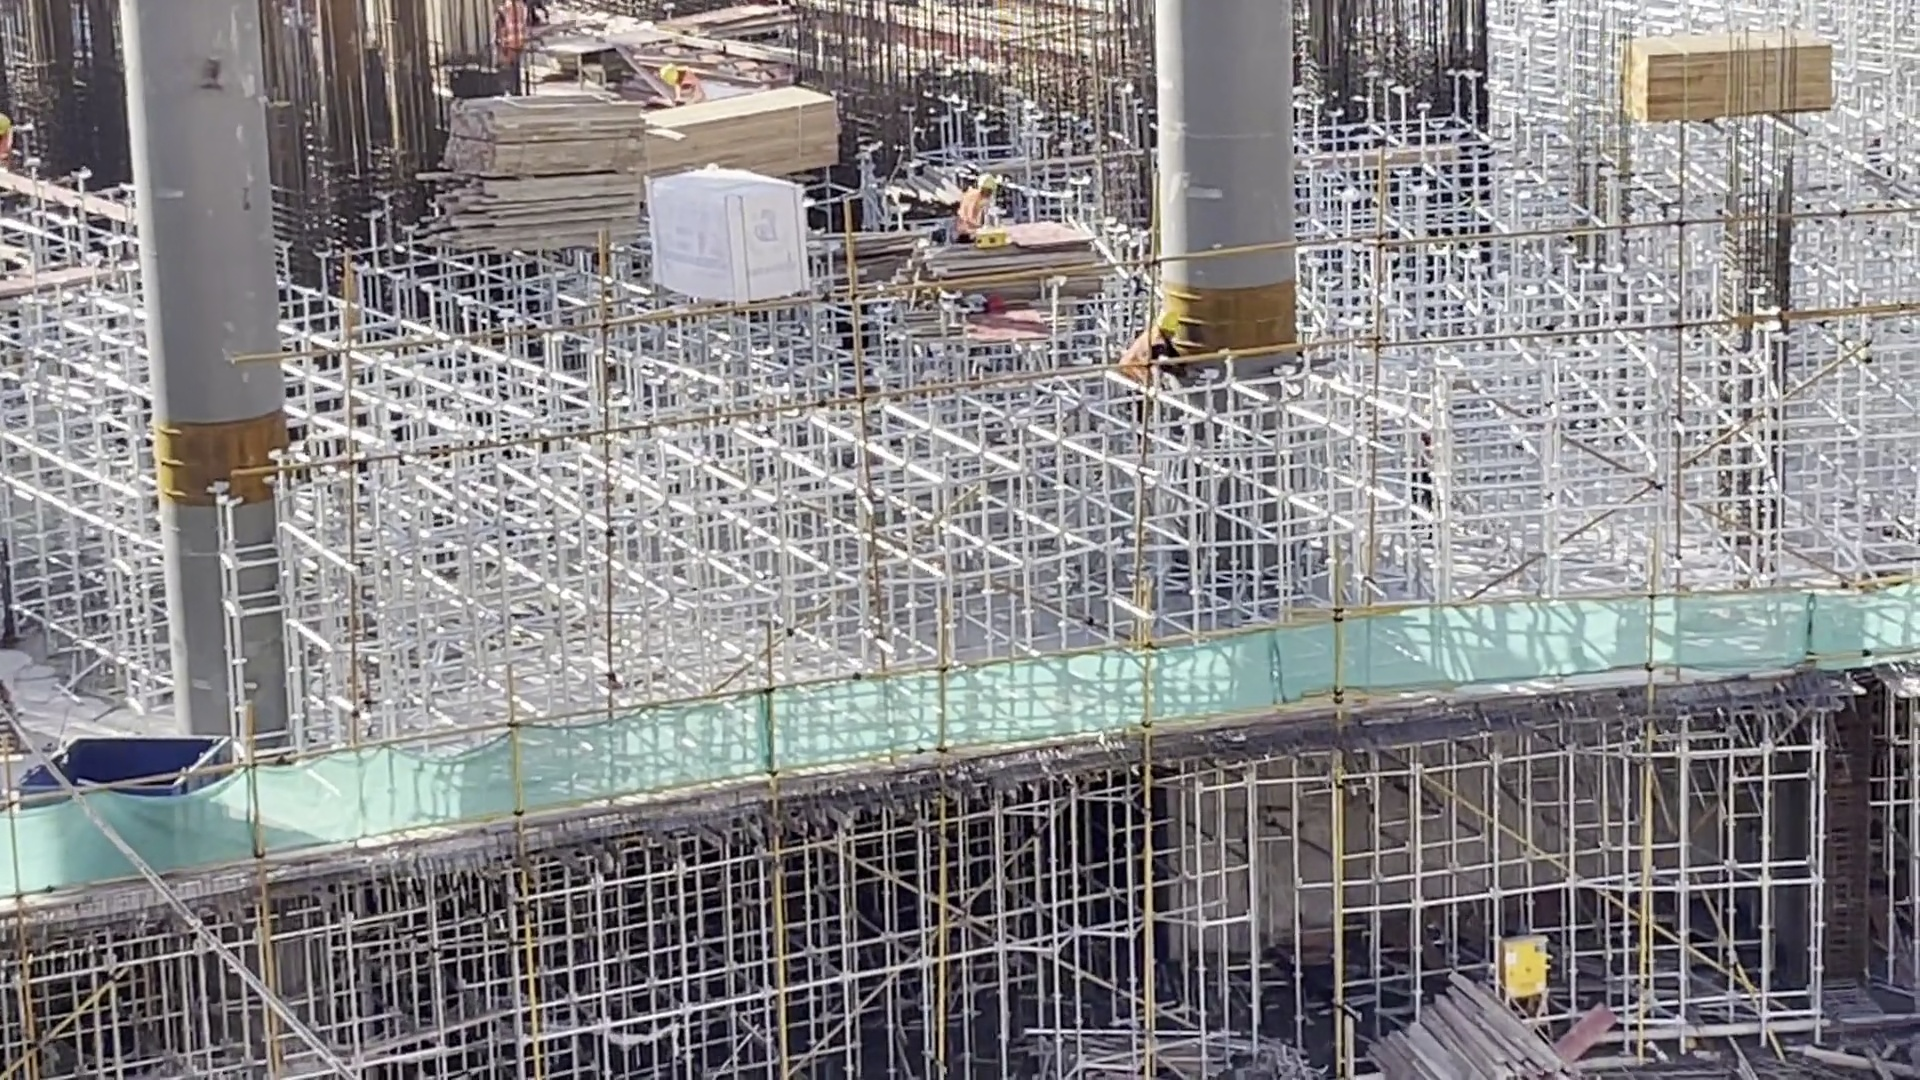board: (908, 211, 1110, 311)
ebox: (1500, 927, 1551, 1009)
helmet: (1157, 311, 1184, 331), (659, 63, 679, 87), (976, 173, 998, 191)
hopper: (21, 731, 240, 790)
person: (1123, 308, 1189, 389), (950, 171, 997, 230), (657, 61, 711, 109), (1, 104, 17, 168)
vest: (1125, 327, 1166, 382), (957, 190, 990, 229), (674, 71, 706, 106)
wood: (414, 94, 644, 255), (1612, 24, 1841, 130), (1370, 972, 1583, 1080), (641, 83, 844, 174)
